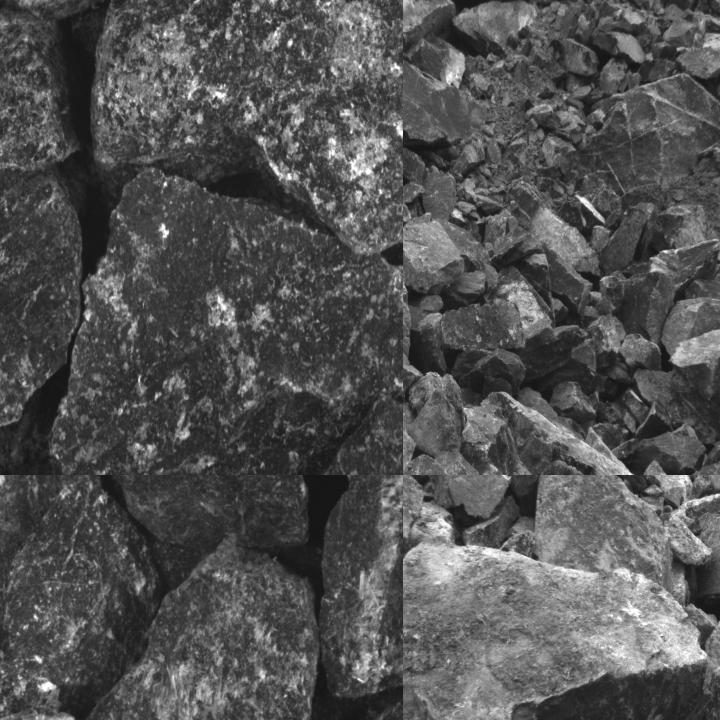stone: (41, 166, 402, 474), (91, 0, 402, 254), (403, 539, 704, 719), (0, 475, 171, 719), (79, 551, 318, 719), (0, 167, 87, 474), (576, 72, 719, 207), (40, 475, 307, 544), (320, 475, 402, 698), (535, 475, 675, 602), (0, 475, 72, 697), (487, 389, 658, 474), (0, 11, 77, 170), (271, 633, 402, 719), (635, 331, 719, 458), (269, 395, 402, 474), (403, 53, 473, 156), (461, 403, 544, 474), (530, 198, 602, 276), (403, 213, 467, 295), (453, 0, 537, 54), (410, 370, 464, 453), (443, 299, 526, 352), (659, 293, 719, 359), (603, 204, 659, 273), (428, 475, 512, 521), (621, 270, 674, 340), (649, 239, 718, 288), (464, 493, 524, 549), (636, 428, 708, 474), (412, 34, 468, 88), (654, 200, 714, 250), (403, 475, 423, 613), (546, 256, 591, 315), (403, 0, 450, 54), (467, 349, 527, 391), (491, 217, 542, 263), (432, 450, 526, 474), (550, 379, 601, 421), (520, 251, 555, 312), (403, 271, 421, 387), (590, 30, 649, 64), (420, 165, 456, 220), (677, 36, 719, 82), (558, 35, 601, 79), (618, 332, 665, 368), (663, 9, 707, 46), (594, 316, 624, 368), (593, 269, 626, 315), (508, 186, 537, 228), (684, 278, 719, 312), (690, 434, 719, 474), (598, 58, 628, 94), (403, 143, 425, 187), (589, 225, 611, 251)
